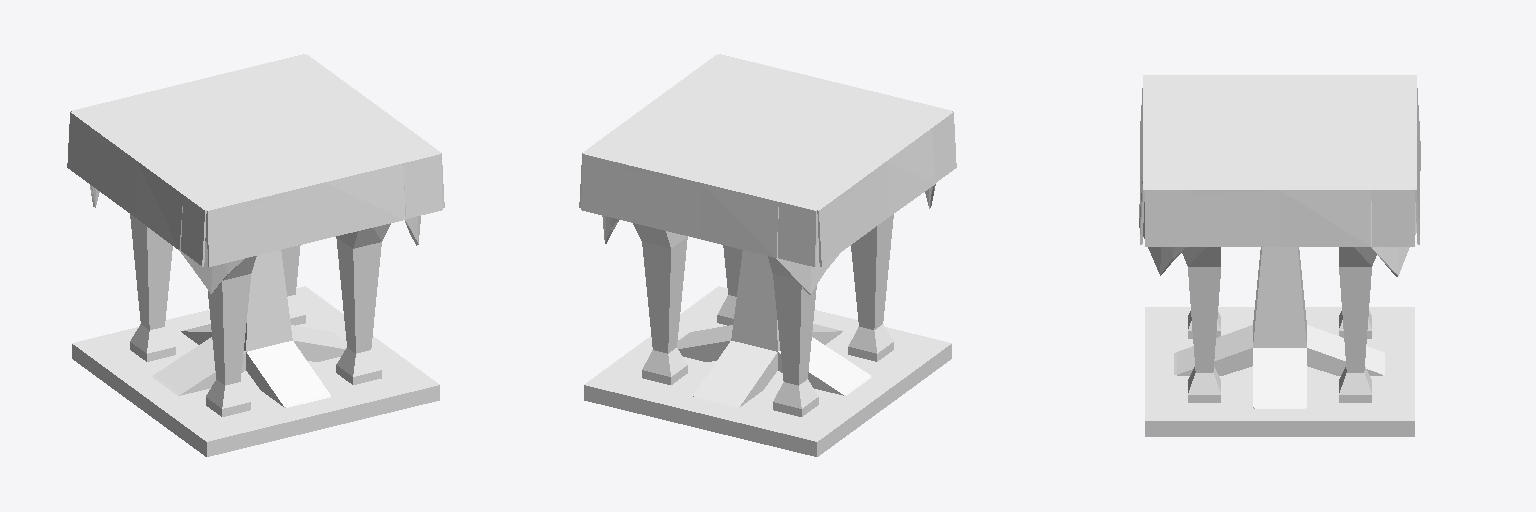
Rendered from table.obj.
3 views of the same model, side by side, from view 1: azimuth 30°, elevation 25°; view 2: azimuth 150°, elevation 25°; view 3: azimuth 270°, elevation 25° (orthographic).
Parts seen in each view (by area): view 1: carpet, monoleg, squareCloth004, squareCloth002, squareCloth003, squareClothSide003b, leg02, squareCloth01, bevCloth004, leg03, bevCloth003, leg04 (+6 smaller); view 2: carpet, monoleg, squareCloth002, squareCloth01, squareCloth003, squareClothSide001b, squareCloth004, bevCloth002, leg01, leg04, leg03, squareClothSide002b (+6 smaller); view 3: carpet, monoleg, squareCloth003, squareClothSide004b, squareCloth004, bevCloth001, squareCloth01, squareCloth002, leg02, leg01, bevCloth002, squareClothSide001a (+1 smaller).
Part boxes in pixels (x1,y1,x2,y2): carpet: (72, 286, 439, 456); monoleg: (152, 250, 346, 407); squareCloth004: (256, 104, 439, 181); squareCloth002: (72, 83, 255, 160); squareCloth003: (140, 133, 322, 209); squareClothSide003b: (207, 182, 325, 266); leg02: (336, 223, 390, 384); squareCloth01: (189, 55, 371, 131); bevCloth004: (258, 129, 420, 245); leg03: (206, 256, 256, 416); bevCloth003: (136, 133, 320, 293); leg04: (130, 214, 175, 361); carpet: (584, 286, 951, 456); monoleg: (677, 250, 871, 407); squareCloth002: (702, 133, 883, 209); squareCloth01: (584, 104, 767, 181); squareCloth003: (768, 83, 951, 160); squareClothSide001b: (581, 153, 699, 238); squareCloth004: (652, 55, 834, 131); bevCloth002: (700, 133, 882, 294); leg01: (633, 223, 687, 384); leg04: (768, 256, 818, 416); leg03: (848, 214, 893, 361); squareClothSide002b: (817, 161, 888, 266); carpet: (1145, 307, 1414, 436); monoleg: (1174, 247, 1384, 408); squareCloth003: (1145, 75, 1279, 131); squareClothSide004b: (1145, 189, 1279, 246); squareCloth004: (1145, 132, 1279, 189); bevCloth001: (1280, 132, 1416, 276); squareCloth01: (1280, 132, 1414, 189); squareCloth002: (1280, 75, 1414, 131); leg02: (1182, 247, 1220, 402); leg01: (1339, 247, 1376, 402); bevCloth002: (1280, 94, 1420, 176); squareClothSide001a: (1280, 189, 1414, 246).
Bounding box in the file's own units: 1.05 × 1.01 × 1.05.